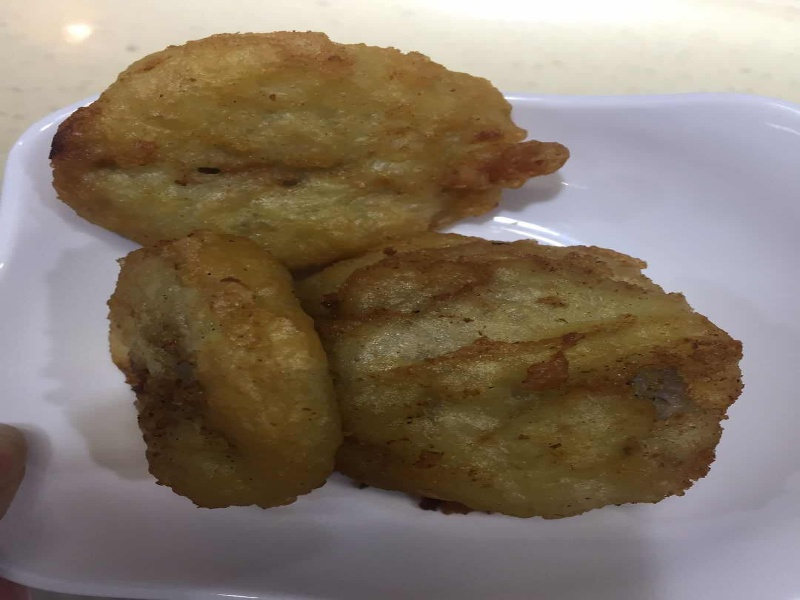patato: (45, 17, 748, 520)
